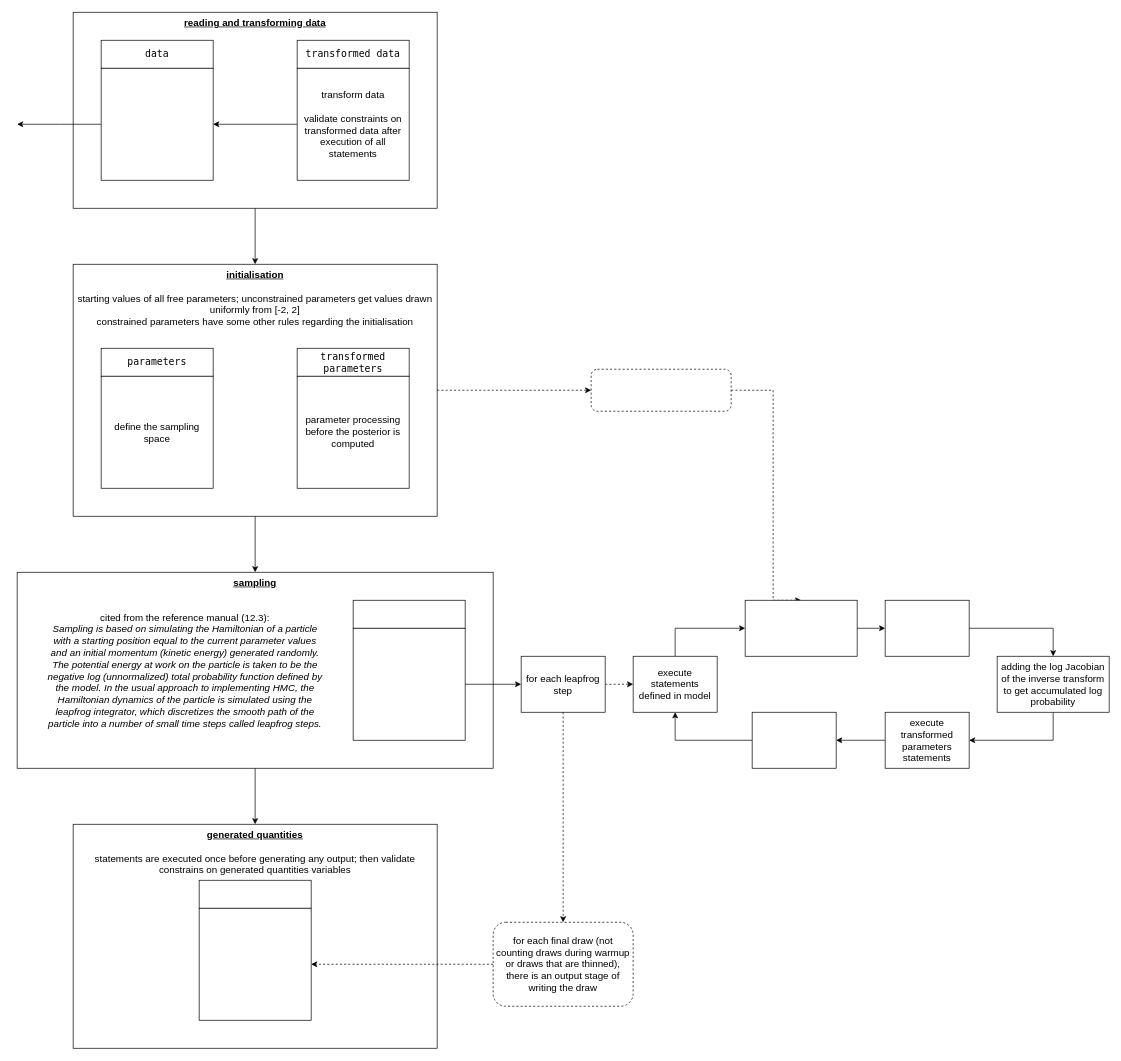
The diagram is 1121 pixels wide and 1061 high, and some of its shapes have lost their labels. The centre of each missing label's shape, as x and y in pixels:
"calculate log probability function and its gradient" belongs at point (926, 628).
"check constraints on transformed parameters" belongs at point (793, 740).
"define posterior distributions" belongs at point (408, 684).
"generated quantities" belongs at point (254, 894).
"inverse transform of unconstrained parameters to constrained parameters" belongs at point (800, 628).
"log probability function defined over unconstrained parameteres" belongs at point (660, 390).
"model" belongs at point (408, 614).
"read data into memory through RStan validate constraints on variables" belongs at point (156, 124).
